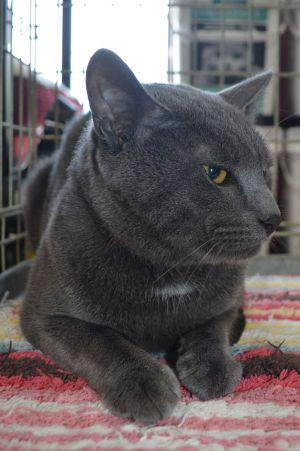rblue: (75, 27, 295, 298)
